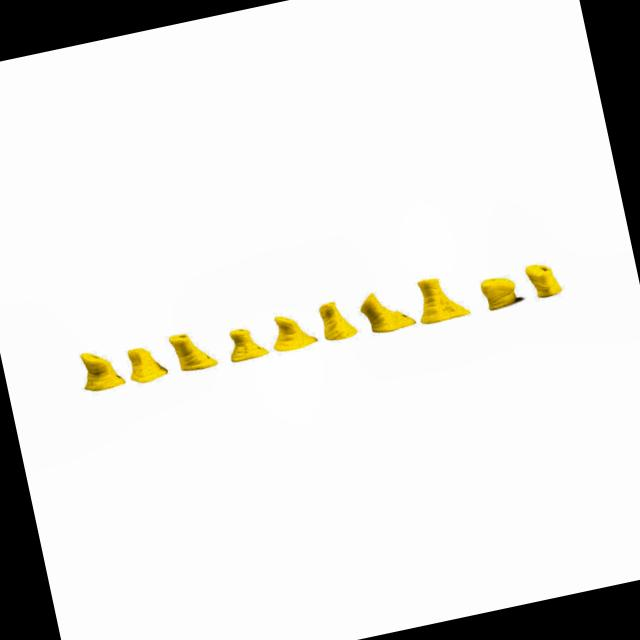Hold: (157, 312, 223, 384), (403, 266, 472, 332), (354, 281, 419, 343), (70, 336, 126, 396), (220, 306, 272, 370), (266, 301, 322, 358), (474, 263, 523, 322), (522, 254, 574, 308), (121, 333, 169, 388), (313, 294, 360, 348)
